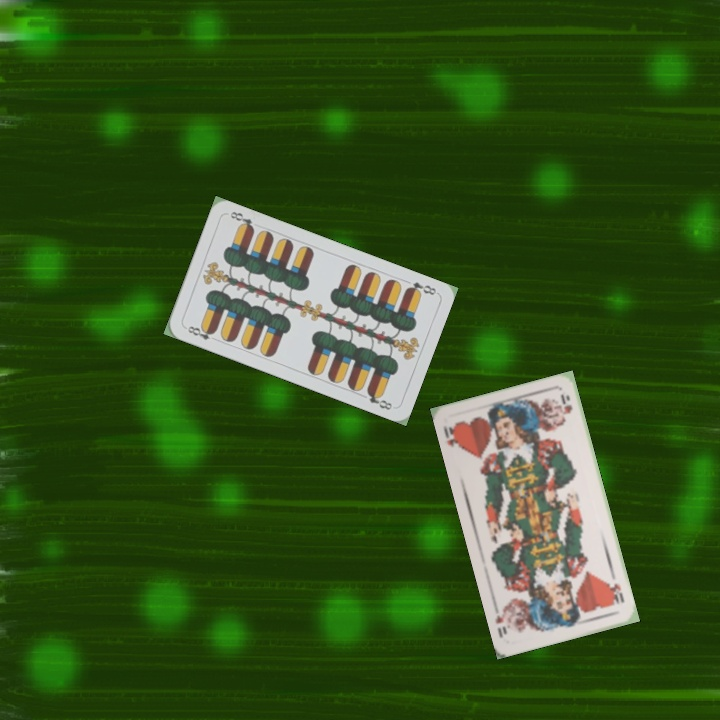E8: (181, 322, 220, 344), (402, 278, 439, 298)
HO: (442, 419, 464, 453), (605, 579, 627, 607)
